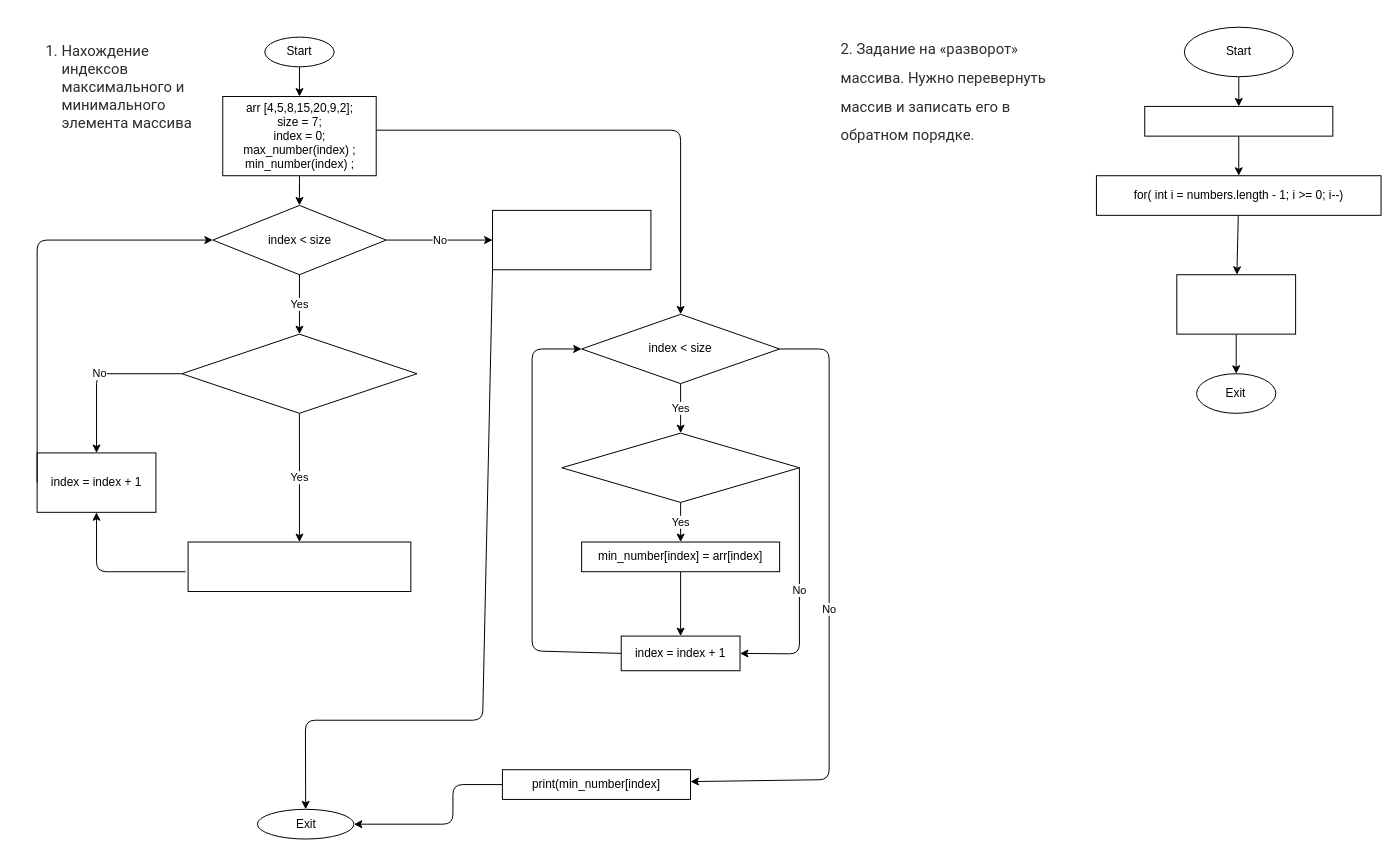
This 1398x856 diagram has some shape labels left out. Here are the shapes that lost their labels. From the top down, the box of each, then its label:
(1144, 105, 1333, 136): numbers[1,2,3,4,5,6];
(492, 209, 651, 270): print(max_number[index])
(1176, 274, 1296, 334): print(numbers[i])
(181, 333, 417, 413): arr[index] > max_number[index]
(561, 432, 799, 502): arr[index] < min_number(index)
(187, 541, 411, 592): max_number[index] = arr[index]
